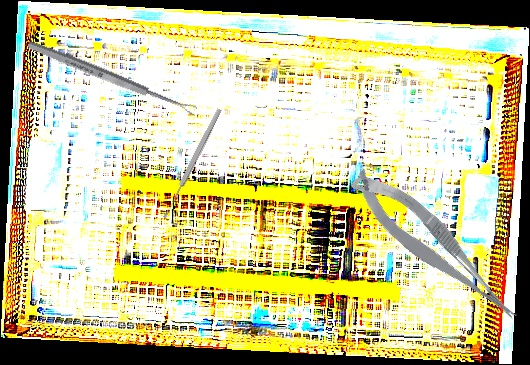Micro Scissor: (343, 153, 525, 343)
Surgical Spoon: (26, 38, 198, 118), (161, 107, 223, 220)
